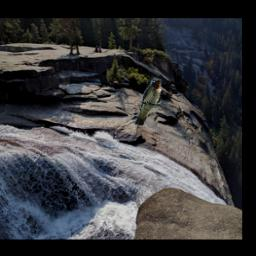Swallow: (132, 77, 162, 125)
